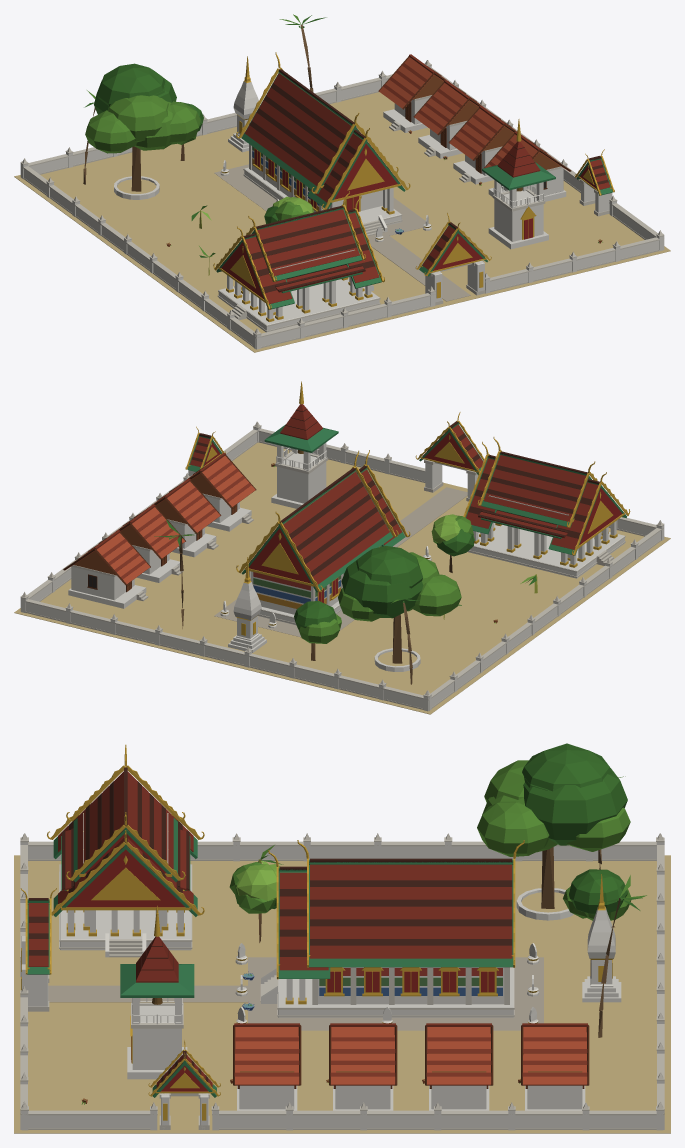
File: temple_2.glb
3 views of the same model, one above another, from view 1: azimuth 30°, elevation 25°; view 2: azimuth 150°, elevation 25°; view 3: azimuth 270°, elevation 25° (orthographic). The views are drawn at different scales.
Parts seen in each view (by area): view 1: body; view 2: body; view 3: body.
Part boxes in pixels (box(x1,y1,x2,y2)): body: box(14, 14, 670, 352); body: box(14, 381, 670, 714); body: box(14, 743, 670, 1133).
Bounding box in the file's own units: 47.9 × 13.28 × 47.9.
